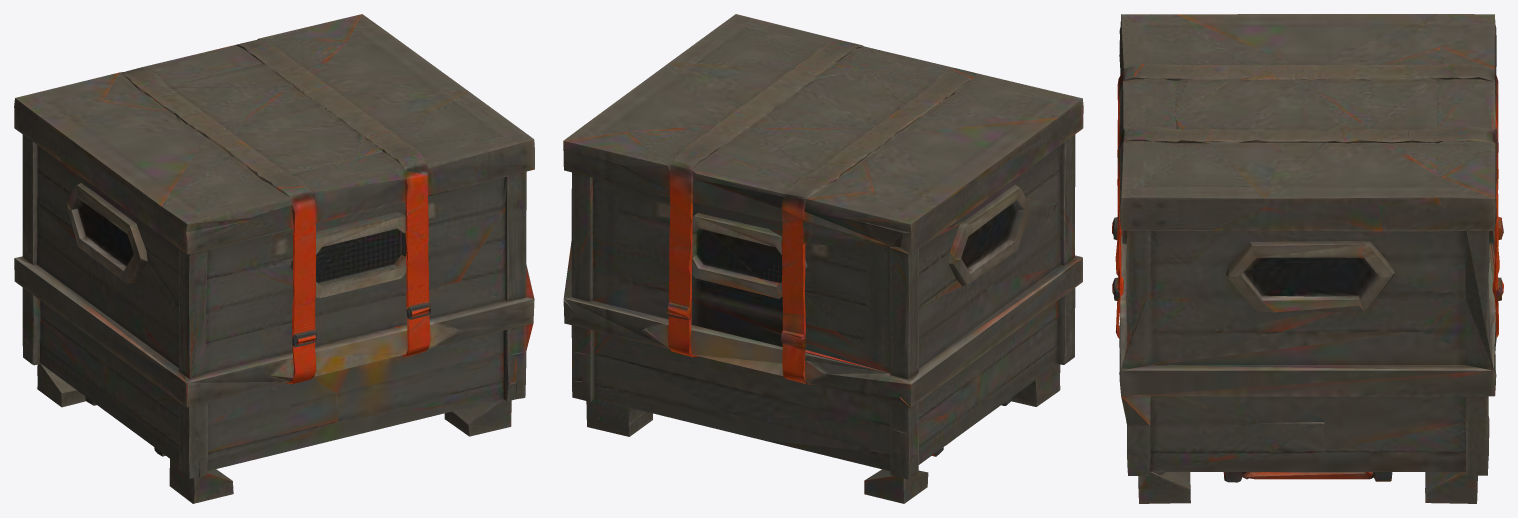
The model's file is spe_ruche.glb.
3 renders of one model, left to right at view 1: azimuth 30°, elevation 25°; view 2: azimuth 150°, elevation 25°; view 3: azimuth 270°, elevation 25°, orthographic. The views are drawn at different scales.
Bounding box in the file's own units: 1.9 × 1.53 × 1.7.
1 material, 1 textured.
